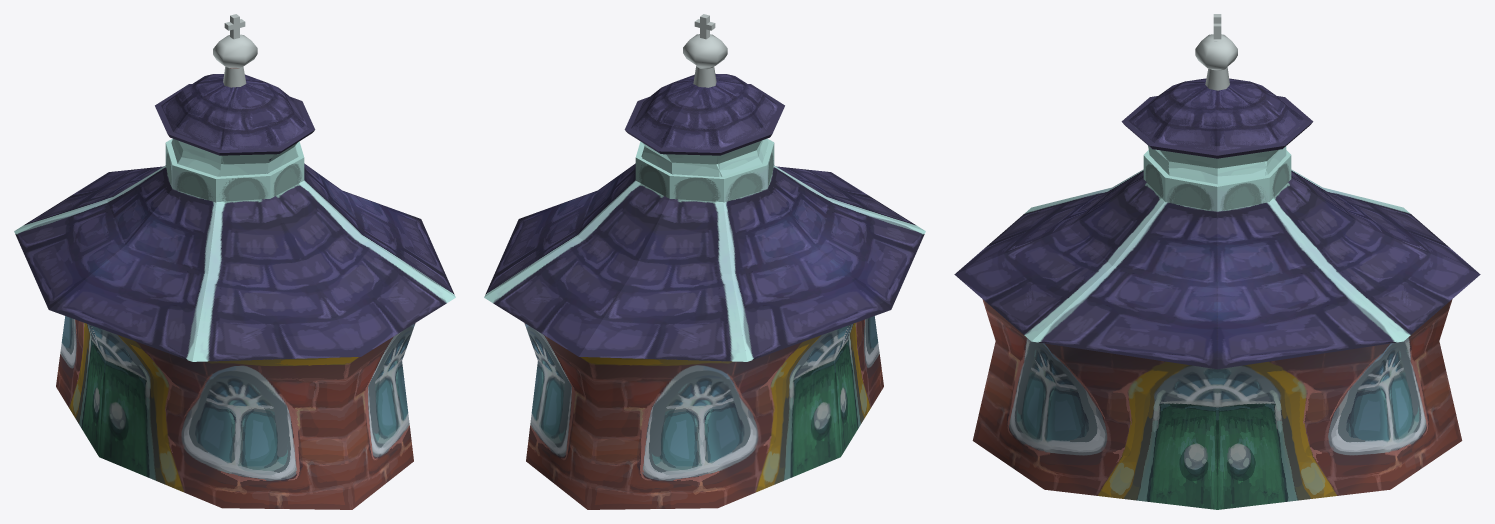
The model's file is Church_Textured.fbx.
3 views of the same model, side by side, from view 1: azimuth 30°, elevation 25°; view 2: azimuth 150°, elevation 25°; view 3: azimuth 270°, elevation 25° (orthographic). The views are drawn at different scales.
Parts seen in each view (by area): view 1: Church_Roof, Church_Base; view 2: Church_Roof, Church_Base; view 3: Church_Roof, Church_Base.
Part boxes in pixels (<box>): Church_Roof: <box>14,74,455,361</box>; Church_Base: <box>56,14,415,509</box>; Church_Roof: <box>484,74,925,361</box>; Church_Base: <box>524,14,883,509</box>; Church_Roof: <box>954,78,1480,369</box>; Church_Base: <box>972,14,1462,509</box>.
Bounding box in the file's own units: 269 × 281 × 316.
2 materials, 2 textured.
